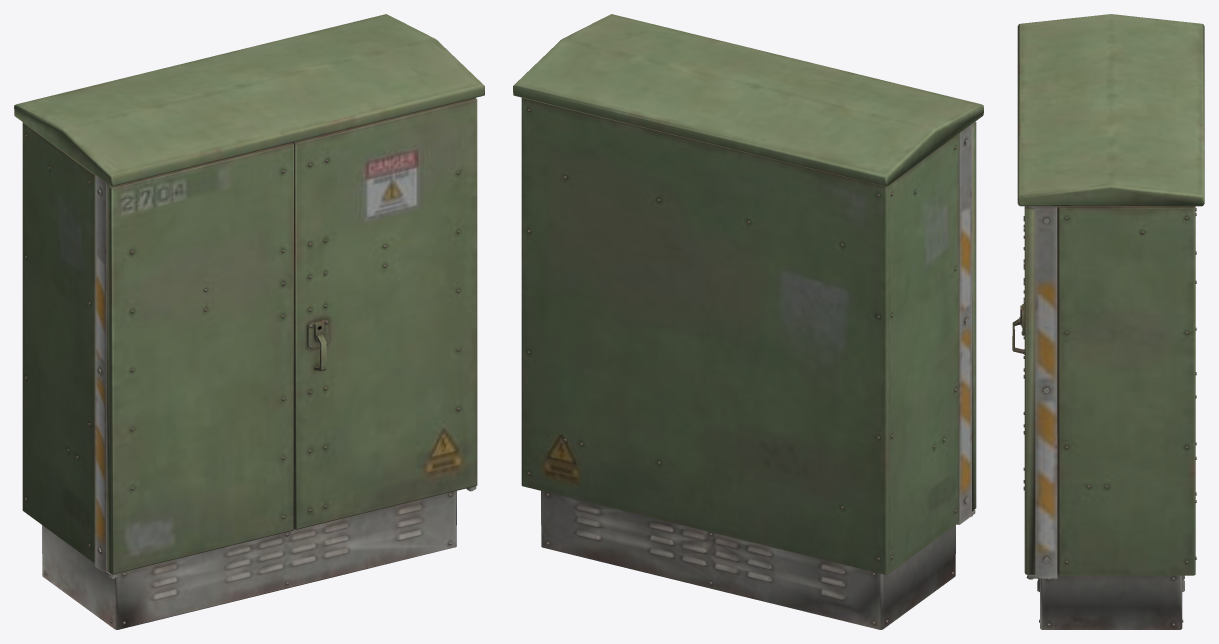
Rendered from utility_box_02.glb.
3 renders of one model, left to right at view 1: azimuth 30°, elevation 25°; view 2: azimuth 150°, elevation 25°; view 3: azimuth 270°, elevation 25°, orthographic. The views are drawn at different scales.
Parts seen in each view (by area): view 1: utility_box_02; view 2: utility_box_02; view 3: utility_box_02.
Part boxes in pixels (left/top/right/bottom): utility_box_02: left=14, top=14, right=484, bottom=629; utility_box_02: left=513, top=14, right=983, bottom=629; utility_box_02: left=1012, top=14, right=1204, bottom=629.
Bounding box in the file's own units: 0.92 × 1.12 × 0.432.
1 material, 1 textured.
